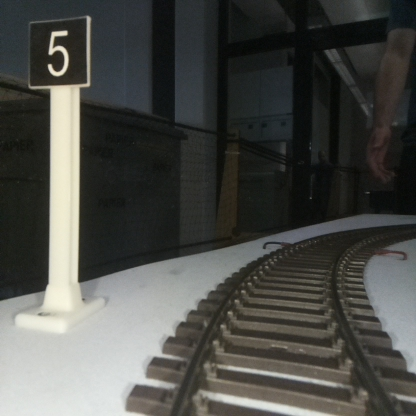black-info-5: (29, 18, 86, 328)
